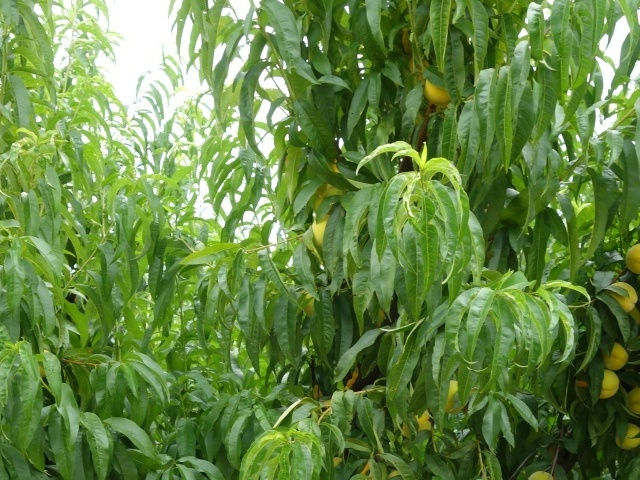peach: (438, 381, 472, 418), (398, 408, 436, 441), (421, 75, 454, 111), (607, 278, 639, 315), (600, 341, 633, 374), (304, 215, 335, 249), (594, 366, 622, 402), (611, 420, 640, 453), (621, 381, 640, 416), (622, 240, 640, 276), (299, 291, 321, 317)
